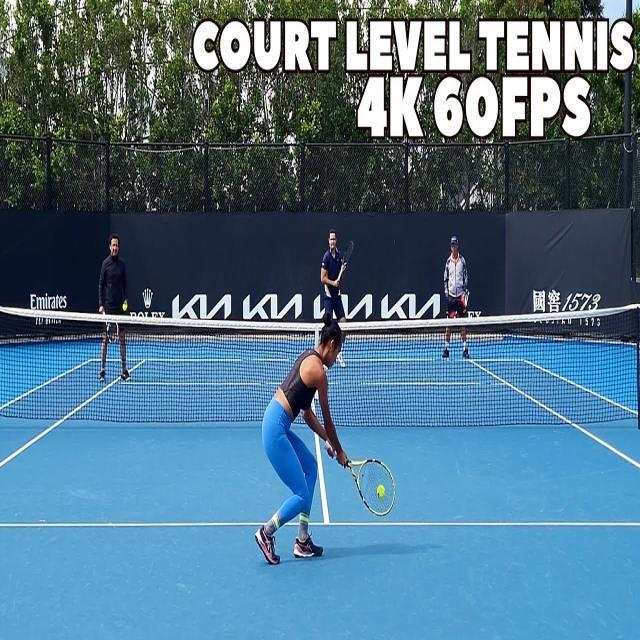court: (2, 369, 640, 636)
net: (0, 286, 640, 442)
player: (242, 300, 404, 576)
